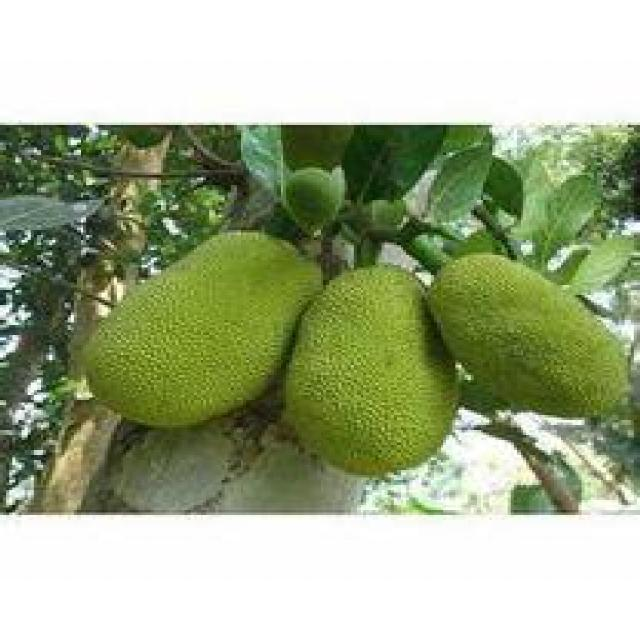Fruit: (71, 218, 326, 440), (277, 255, 468, 485), (418, 242, 640, 438)
